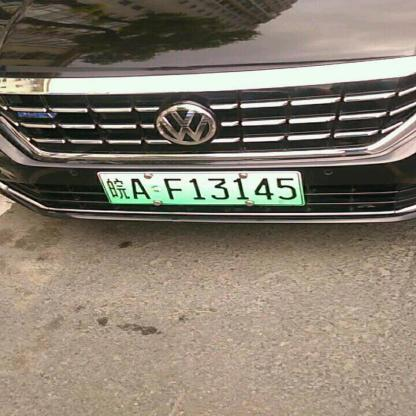lp: (95, 170, 304, 205)
